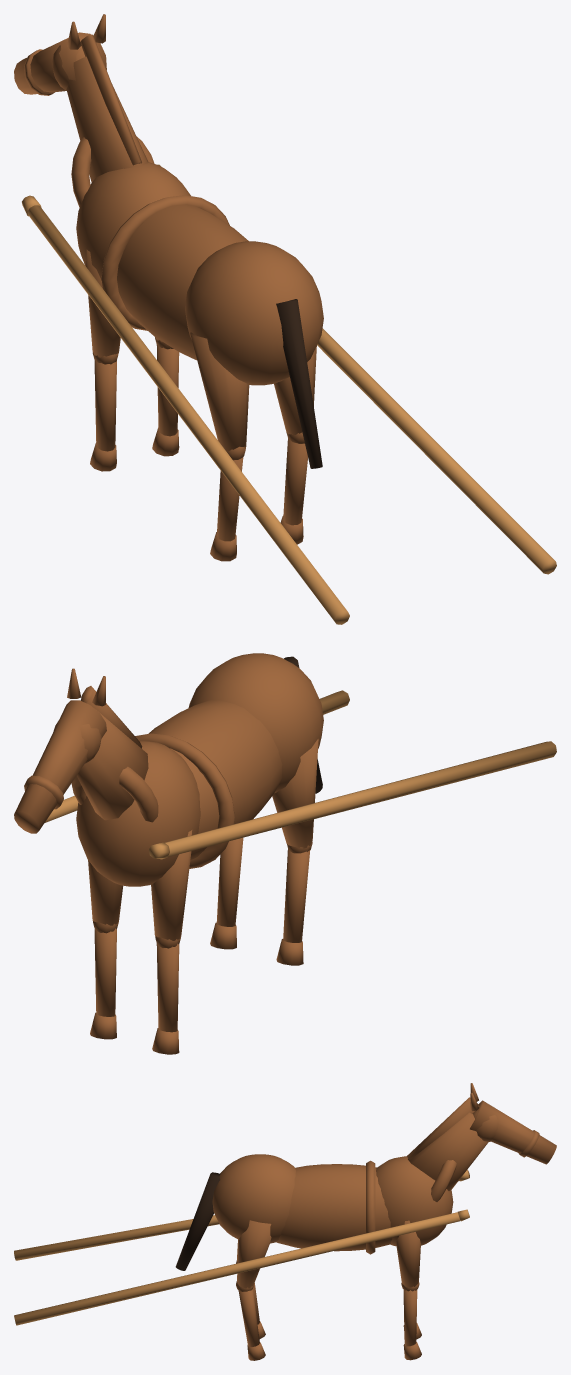
Rendered from caballo.glb.
3 views of the same model, one above another, from view 1: azimuth 30°, elevation 25°; view 2: azimuth 150°, elevation 25°; view 3: azimuth 270°, elevation 25° (orthographic). The views are drawn at different scales.
Parts seen in each view (by area): view 1: JIA_Horse_Body, JIA_Horse_Shafts, JIA_Horse_Neck, JIA_Horse_Leg_HL, JIA_Horse_Head, JIA_Horse_Tail, JIA_Horse_Shin_FL, JIA_Horse_Shin_HR, JIA_Horse_Shin_HL, JIA_Horse_Shin_FR, JIA_Horse_Leg_FL, JIA_Horse_Leg_HR; view 2: JIA_Horse_Body, JIA_Horse_Shafts, JIA_Horse_Head, JIA_Horse_Neck, JIA_Horse_Shin_HL, JIA_Horse_Shin_FR, JIA_Horse_Shin_FL, JIA_Horse_Leg_FL, JIA_Horse_Leg_HL, JIA_Horse_Shin_HR, JIA_Horse_Leg_FR; view 3: JIA_Horse_Body, JIA_Horse_Shafts, JIA_Horse_Neck, JIA_Horse_Head, JIA_Horse_Leg_HR, JIA_Horse_Tail, JIA_Horse_Leg_FR, JIA_Horse_Shin_HR, JIA_Horse_Shin_FR.
Part boxes in pixels (<box>): JIA_Horse_Body: <box>71,136,323,385</box>; JIA_Horse_Shafts: <box>22,164,556,624</box>; JIA_Horse_Neck: <box>66,34,148,182</box>; JIA_Horse_Leg_HL: <box>190,332,249,451</box>; JIA_Horse_Head: <box>14,14,106,95</box>; JIA_Horse_Tail: <box>276,299,322,468</box>; JIA_Horse_Shin_FL: <box>90,352,118,471</box>; JIA_Horse_Shin_HR: <box>280,432,307,544</box>; JIA_Horse_Shin_HL: <box>210,446,245,561</box>; JIA_Horse_Shin_FR: <box>152,337,179,456</box>; JIA_Horse_Leg_FL: <box>85,249,120,357</box>; JIA_Horse_Leg_HR: <box>274,346,316,434</box>; JIA_Horse_Body: <box>71,653,323,886</box>; JIA_Horse_Shafts: <box>45,690,556,859</box>; JIA_Horse_Head: <box>14,668,106,833</box>; JIA_Horse_Neck: <box>76,686,148,820</box>; JIA_Horse_Shin_HL: <box>276,842,312,965</box>; JIA_Horse_Shin_FR: <box>90,921,118,1039</box>; JIA_Horse_Shin_FL: <box>152,936,180,1054</box>; JIA_Horse_Leg_FL: <box>151,830,192,940</box>; JIA_Horse_Leg_HL: <box>272,739,318,848</box>; JIA_Horse_Shin_HR: <box>210,837,243,949</box>; JIA_Horse_Leg_FR: <box>88,860,123,925</box>; JIA_Horse_Body: <box>212,1154,456,1254</box>; JIA_Horse_Shafts: <box>14,1169,469,1325</box>; JIA_Horse_Neck: <box>407,1097,488,1190</box>; JIA_Horse_Head: <box>470,1083,556,1164</box>; JIA_Horse_Leg_HR: <box>237,1220,271,1288</box>; JIA_Horse_Tail: <box>175,1172,220,1270</box>; JIA_Horse_Leg_FR: <box>396,1220,420,1287</box>; JIA_Horse_Shin_HR: <box>236,1281,265,1360</box>; JIA_Horse_Shin_FR: <box>401,1282,421,1360</box>.
Size of the model in its own units: 1.07 by 1.87 by 3.54.
